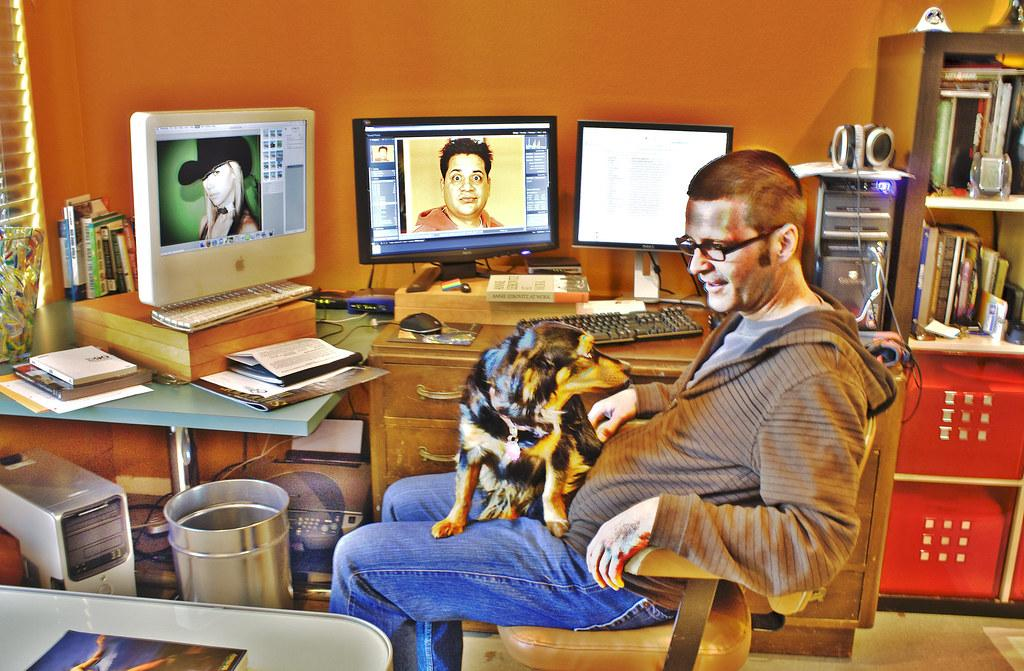computer: (130, 107, 317, 333), (353, 116, 560, 280), (572, 119, 734, 305), (1, 447, 139, 598), (810, 171, 903, 334)
